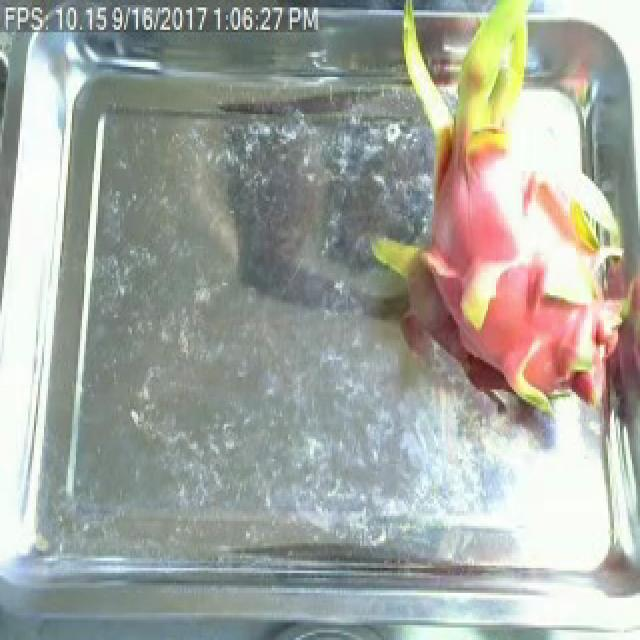fruit: (358, 8, 640, 452)
